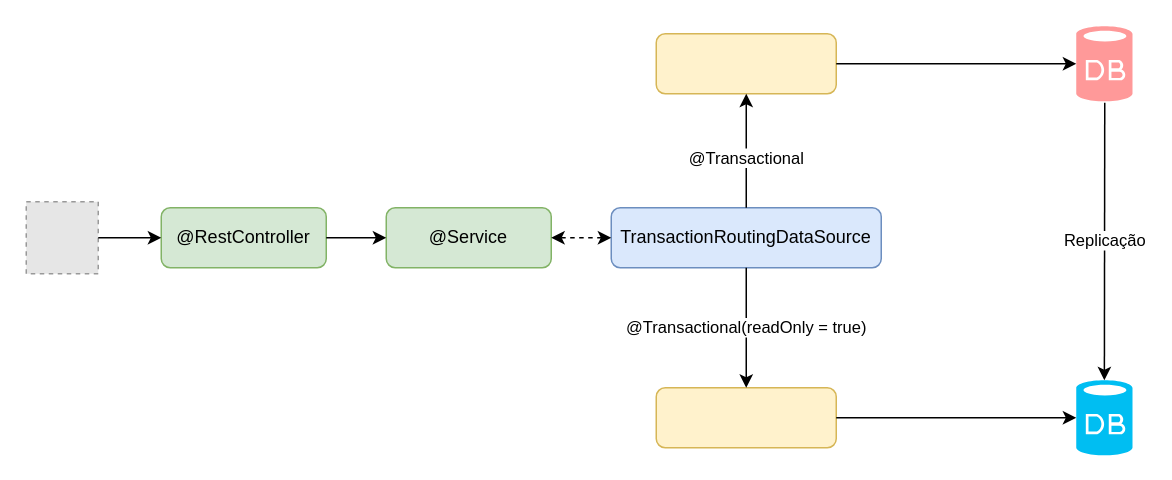
This 1172x480 diagram has some shape labels left out. Grey dashed boxes stand in for pictures. The shapes that lost their labels are listed below. From the top down, each one's centre as x and y in pixels, then its label:
At (x=745, y=63): "MasterDataSource".
At (x=745, y=417): "ReplicaDataSource".
